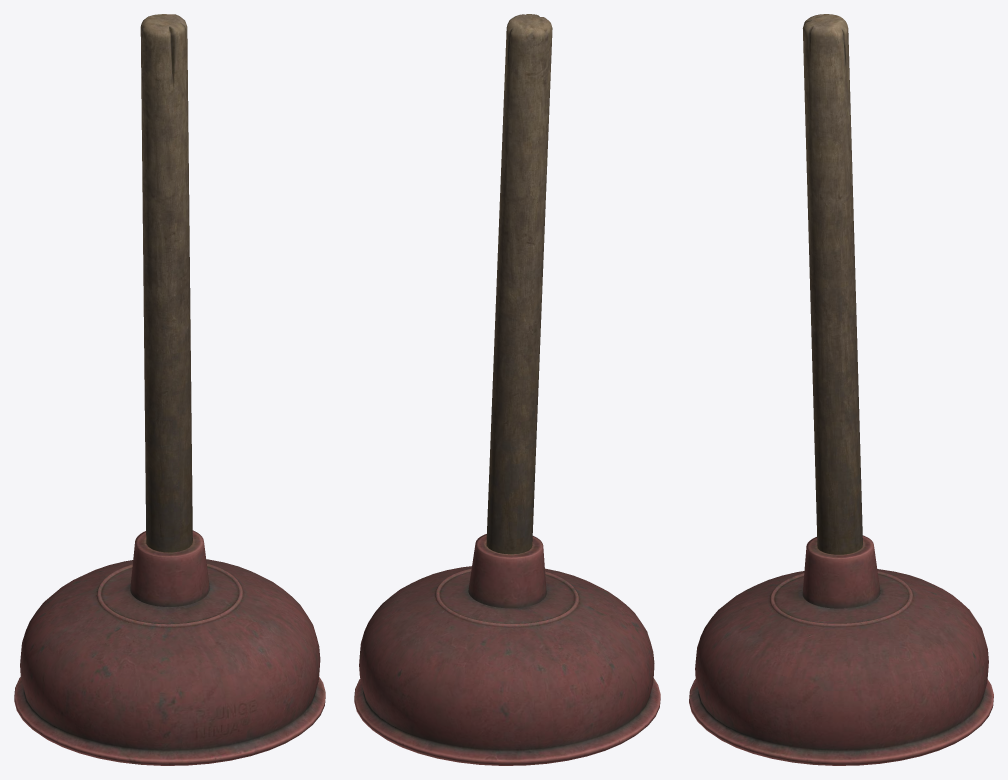
Rendered from plunger.glb.
3 renders of one model, left to right at view 1: azimuth 30°, elevation 25°; view 2: azimuth 150°, elevation 25°; view 3: azimuth 270°, elevation 25°, orthographic. The views are drawn at different scales.
Parts seen in each view (by area): view 1: plunger; view 2: plunger; view 3: plunger.
Part boxes in pixels (<box>): plunger: <box>14,14,325,765</box>; plunger: <box>354,14,660,765</box>; plunger: <box>689,14,993,765</box>.
Bounding box in the file's own units: 0.1721 × 0.4211 × 0.1721.
1 material, 1 textured.
